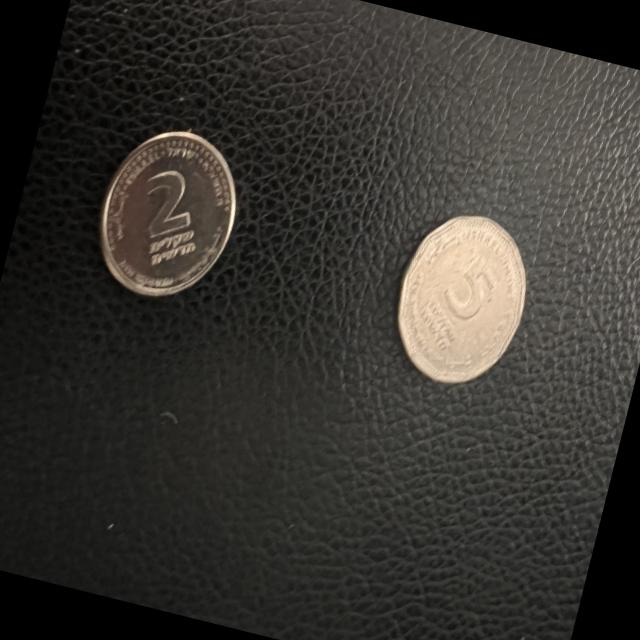2-shekel: (72, 104, 260, 330)
5-shekel: (363, 187, 554, 403)
